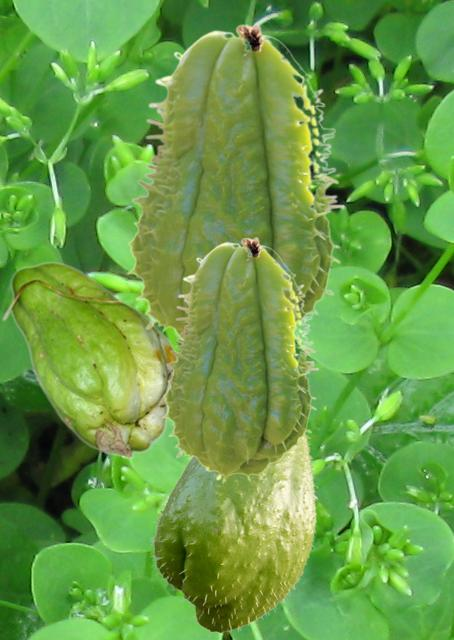sayote: (125, 22, 343, 337), (161, 236, 318, 483), (1, 261, 176, 458), (148, 433, 317, 635)
